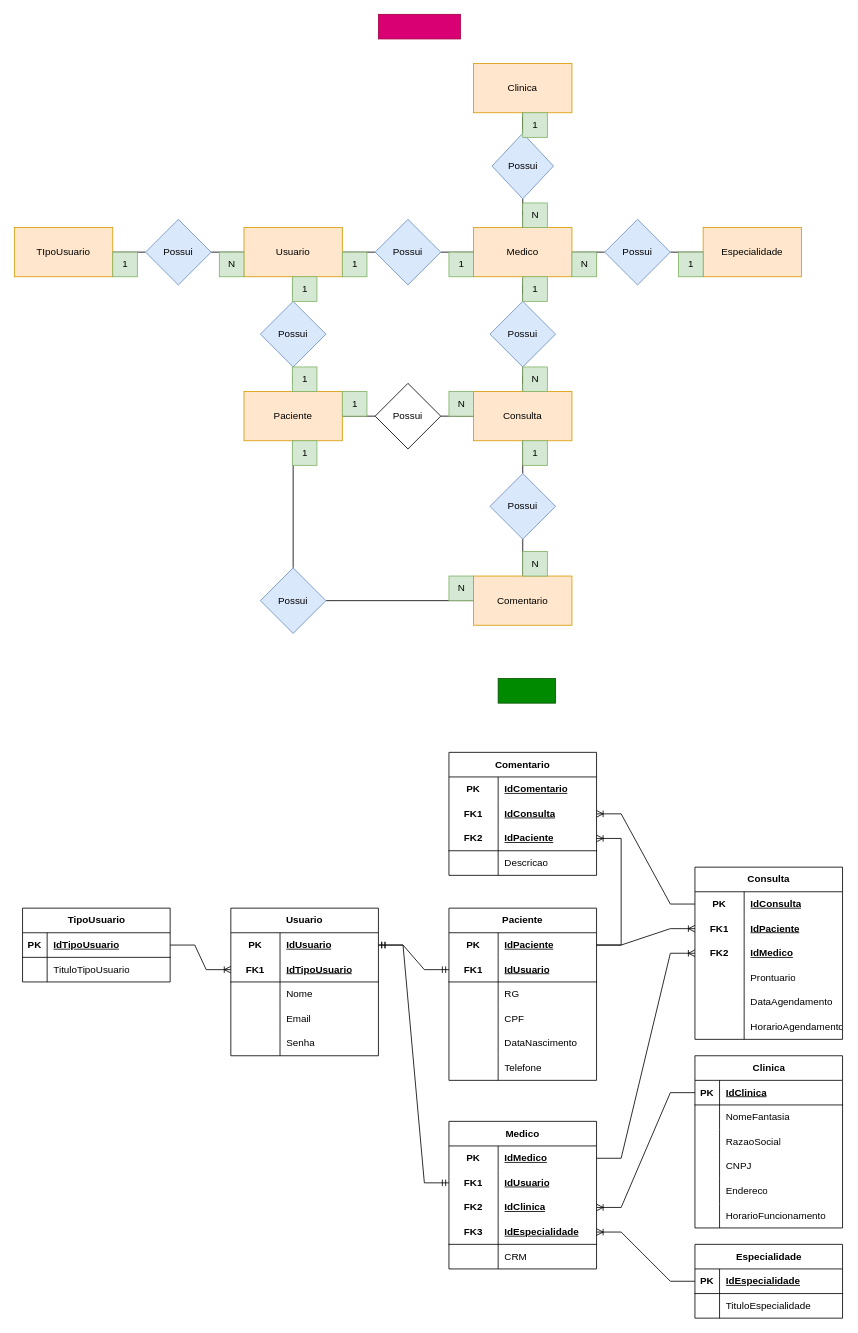
The diagram is 858 pixels wide and 1333 high, and some of its shapes have lost their labels. The box of each missing label's shape, as (x1, y1, x2, y2) in pixels:
CONCEITUAL: (378, 14, 460, 39)
LOGICO: (497, 678, 556, 703)
